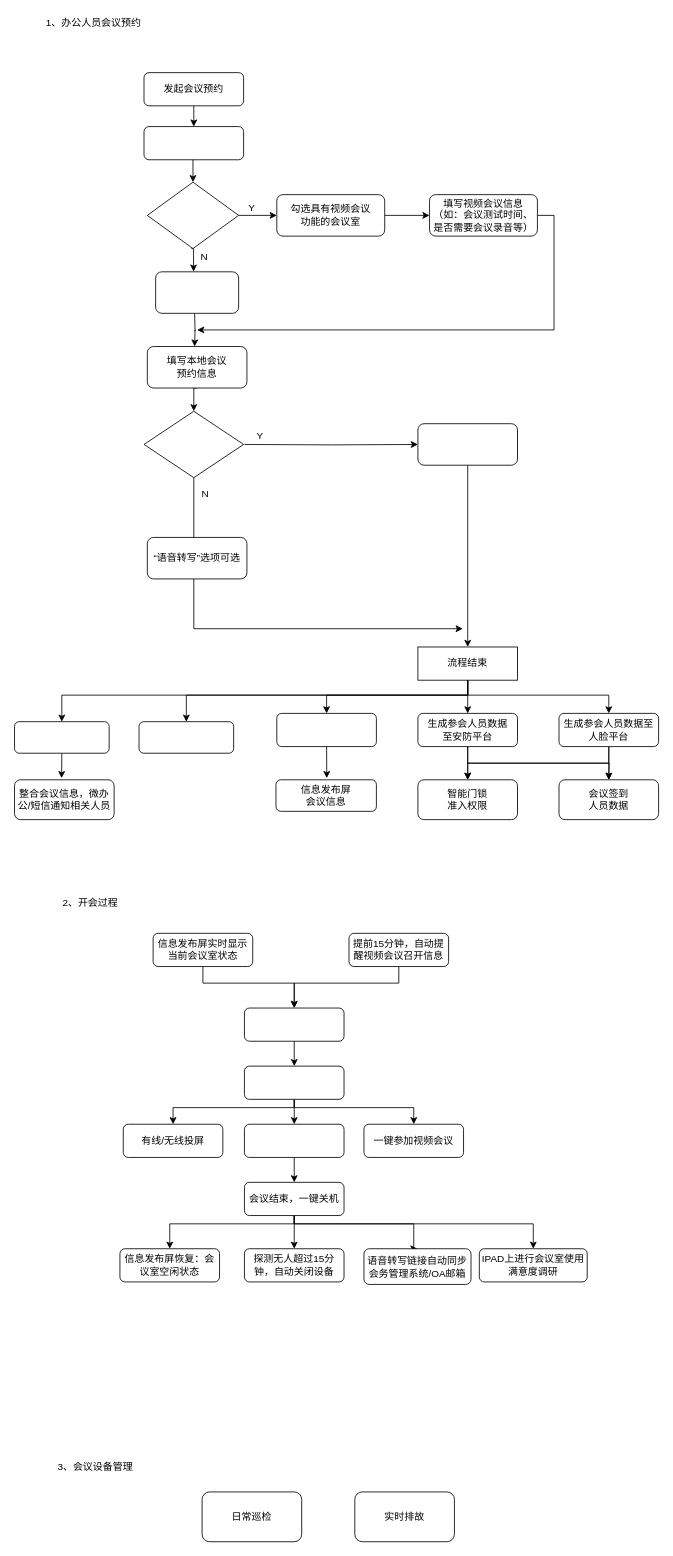
Image size: 673x1556. Some labels were removed from this diagram. The centre of each missing label's shape, as x and y in pixels:
“语音转写”选项为灰色，不可选: the point at 467,444
会议组织者 一键开启设备: the point at 294,1082
刷卡/人脸进入会议室，同步会议签到: the point at 294,1024
勾选所需会议室: the point at 197,292
填写预约信息: the point at 193,143
当前时间段 语音转写并发 是否超过3路: the point at 193,444
微办公/短信通知会议保障人员: the point at 186,737
是否需要 视频会议: the point at 192,215
生成会议预约 信息至发布系统: the point at 326,730
生成视频会议号: the point at 61,737
空调、窗帘等其他机电系统同步控制: the point at 294,1140
